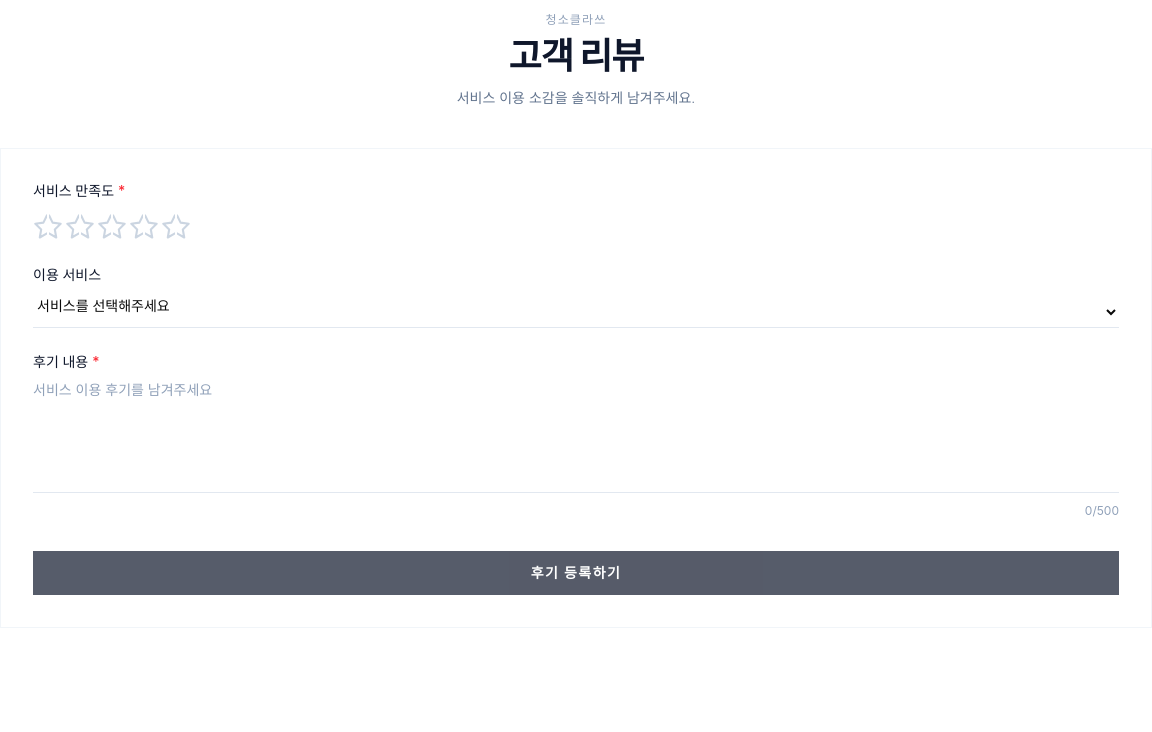
it: ReviewSubmitForm (browser) › should disable submit until a rating is selected
expect the button "후기 등록하기" is disabled: met, box [33,551,1119,595]
Step 1. Click the button named "2점" → (88, 227), box [81,213,95,241]
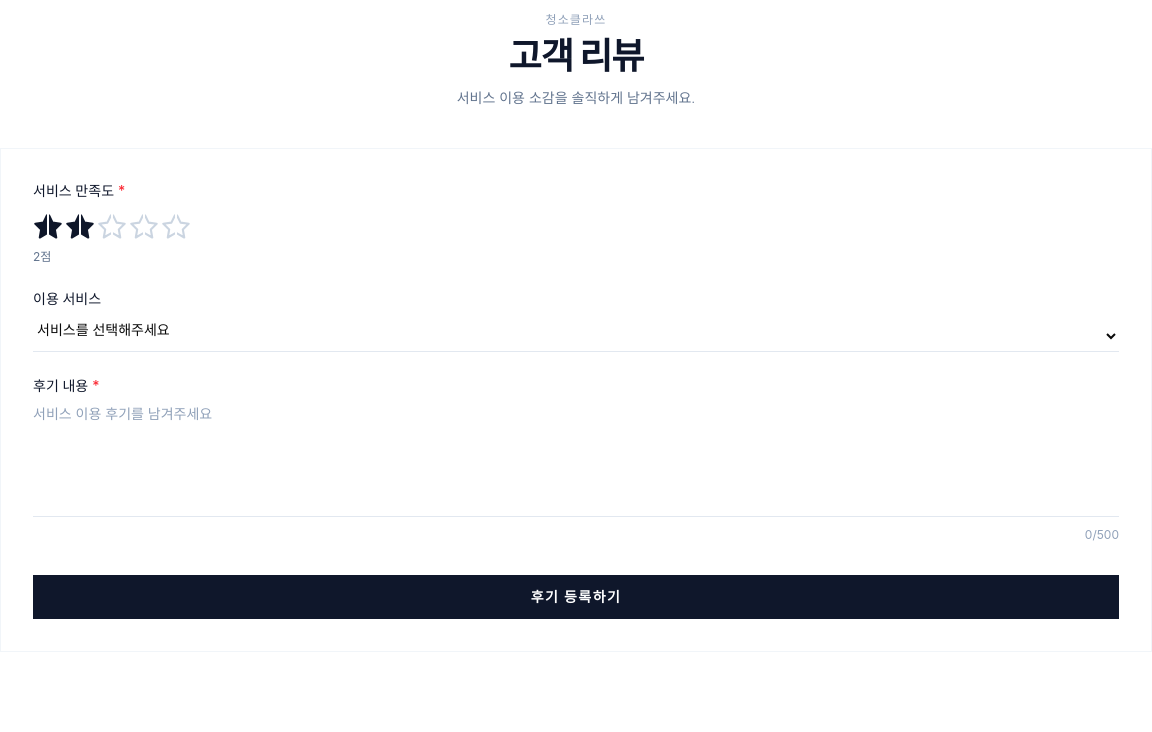
expect the button "후기 등록하기" is enabled: met, box [33,575,1119,619]
